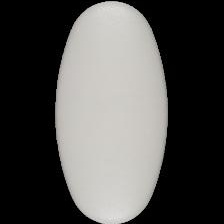13668-429: (0, 0, 224, 224)
